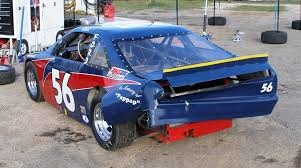Dent: (101, 71, 204, 128)
